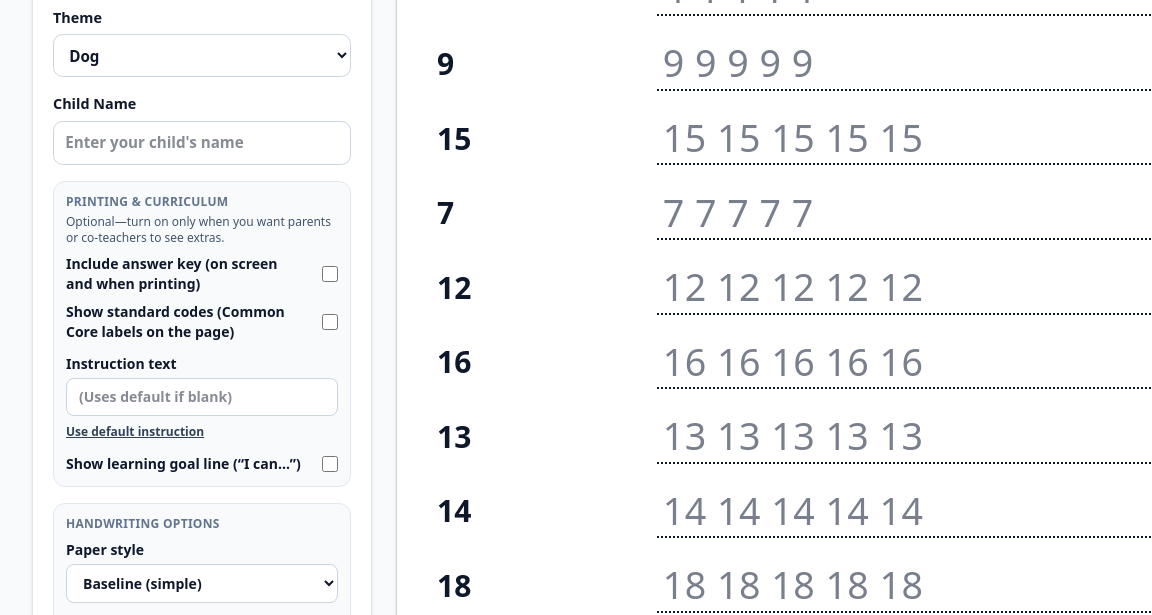
Test: app regression coverage › standards tags are hidden by default and appear when enabled
(page scrolled)
Expected: the text "Standards:" is not shown
Click the checkbox named "Show Common Core standard codes on the page".
click(330, 322)  # box [322,314,338,330]
(page scrolled)
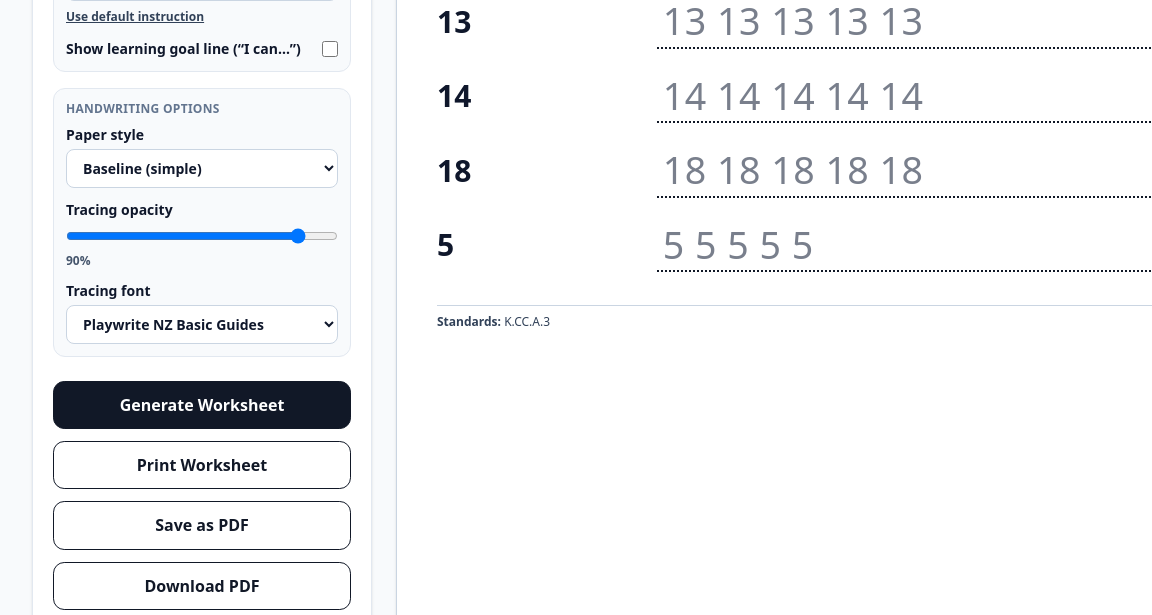
Expected: the text "Standards:" is shown, [437,313,501,330]
